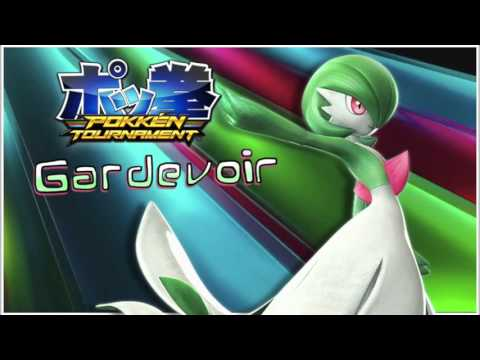gardevoir: (101, 55, 433, 315)
